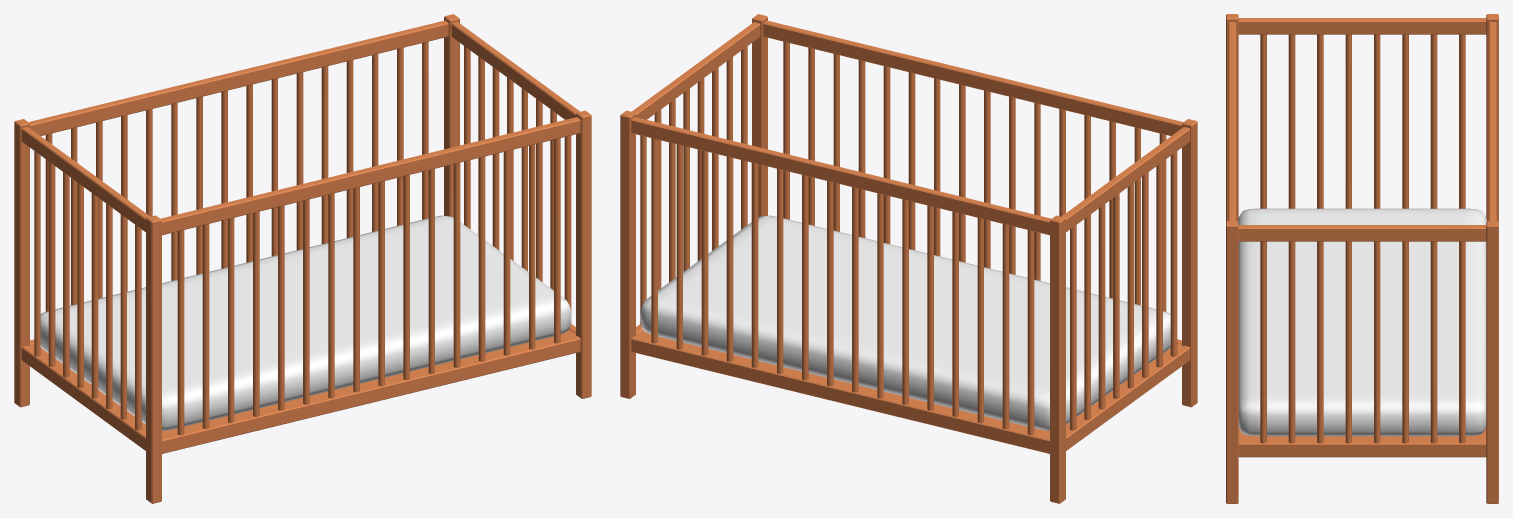
Rendered from Crib_V6.fbx.
The picture shows the model from 3 angles, left to right: view 1: azimuth 30°, elevation 25°; view 2: azimuth 150°, elevation 25°; view 3: azimuth 270°, elevation 25°; orthographic projection.
Parts seen in each view (by area): view 1: Crib_V6; view 2: Crib_V6; view 3: Crib_V6.
Boxes of the visible parts, x1=… form: Crib_V6: x1=14, y1=14, x2=591, y2=503; Crib_V6: x1=620, y1=14, x2=1197, y2=503; Crib_V6: x1=1226, y1=14, x2=1498, y2=503.
Size of the model in its own units: 137 by 84 by 74.5.
